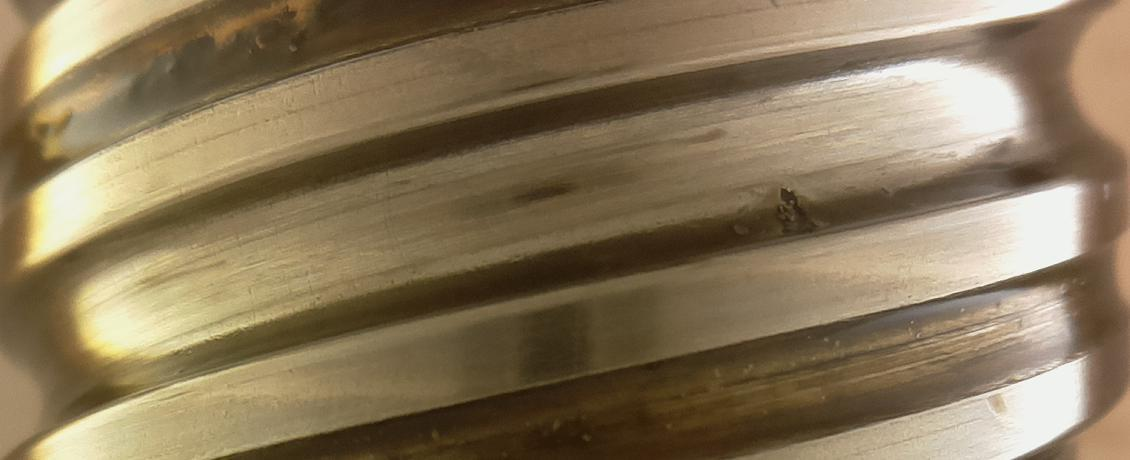pitting: (777, 188, 817, 235)
